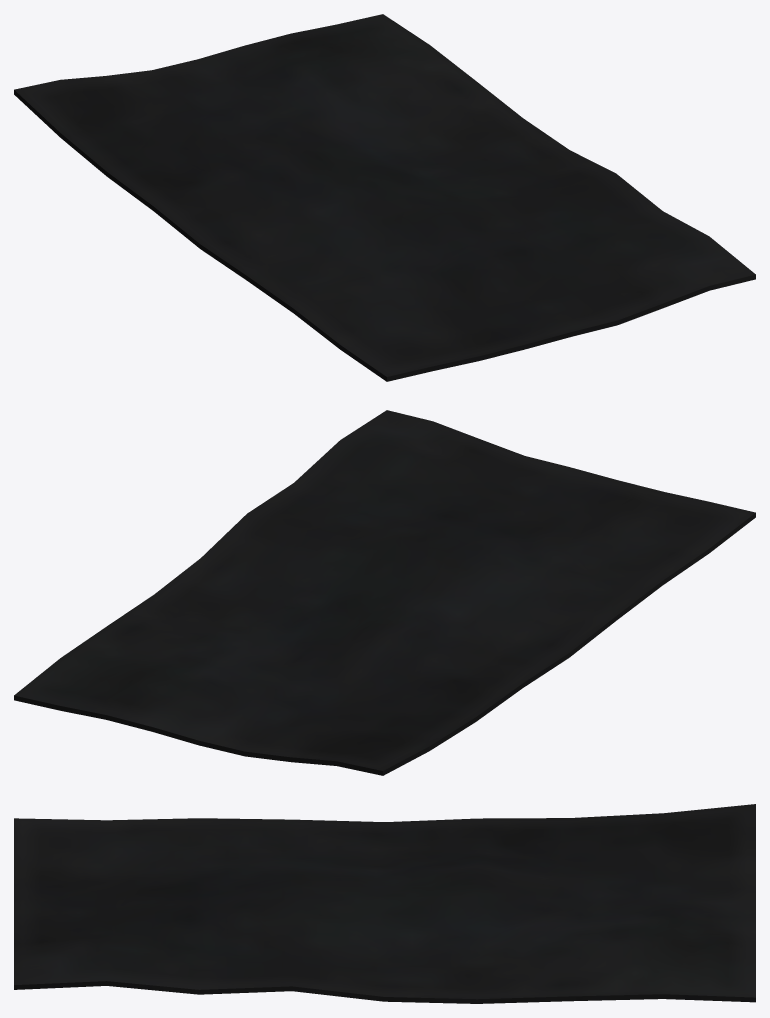
Rendered from metal_sheet_bent.obj.
3 views of the same model, one above another, from view 1: azimuth 30°, elevation 25°; view 2: azimuth 150°, elevation 25°; view 3: azimuth 270°, elevation 25° (orthographic).
Parts seen in each view (by area): view 1: metal_sheet_bent__EXPORT_TEMP; view 2: metal_sheet_bent__EXPORT_TEMP; view 3: metal_sheet_bent__EXPORT_TEMP.
Boxes of the visible parts, box(x1,y1,x2,y2) form: metal_sheet_bent__EXPORT_TEMP: box(14, 14, 755, 381); metal_sheet_bent__EXPORT_TEMP: box(14, 410, 755, 775); metal_sheet_bent__EXPORT_TEMP: box(14, 804, 755, 1003).
Bounding box in the file's own units: 1.2 × 0.1047 × 2.1.
